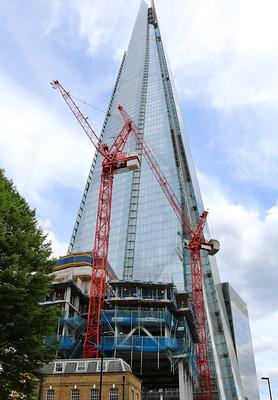building: (32, 0, 248, 398)
